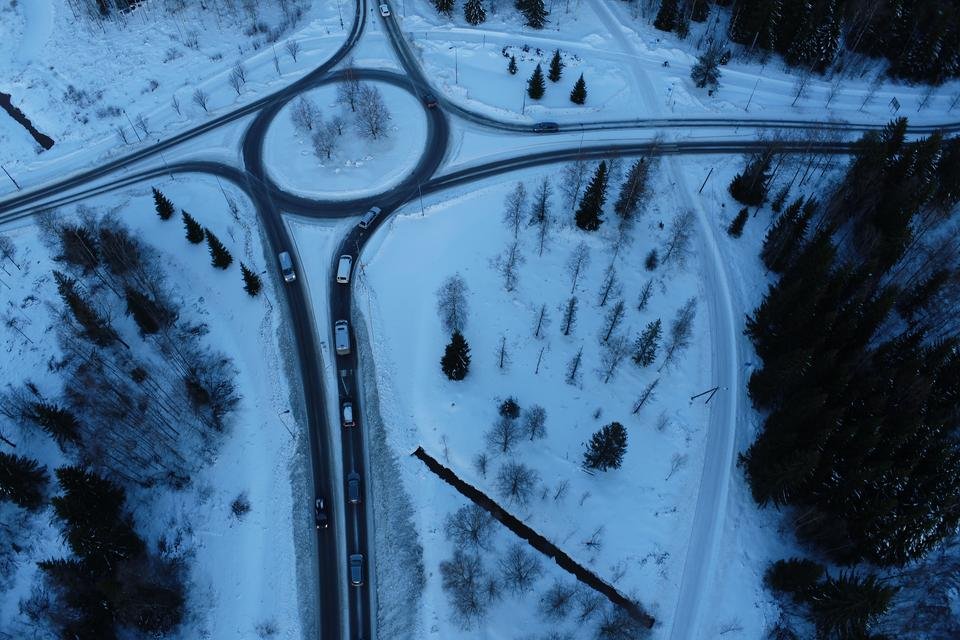intersection: (637, 97, 689, 180), (315, 19, 430, 54)
roundabout: (219, 57, 467, 235)
